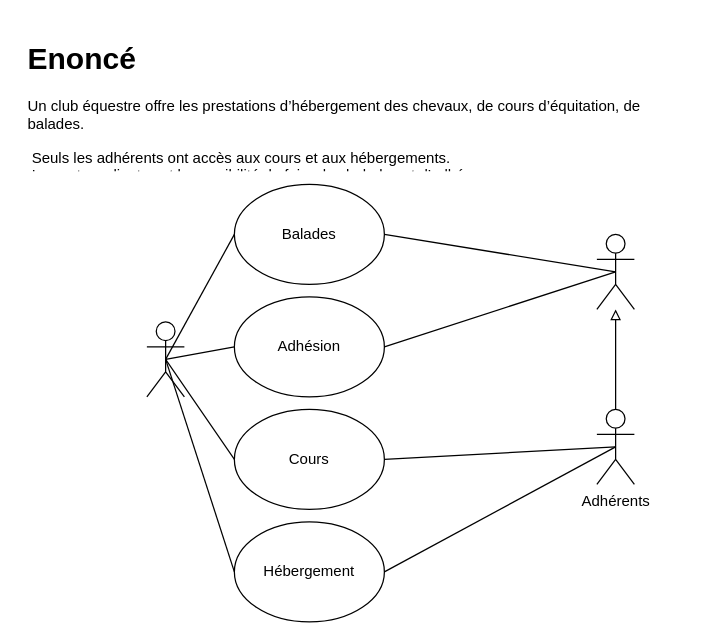
The diagram is 718 pixels wide and 644 high, and some of its shapes have lost their labels. Here are the shapes that lost their labels. From the top down, the centre of each, then its label:
At (615,271): "Clients".
At (165,359): "Club équestre".
